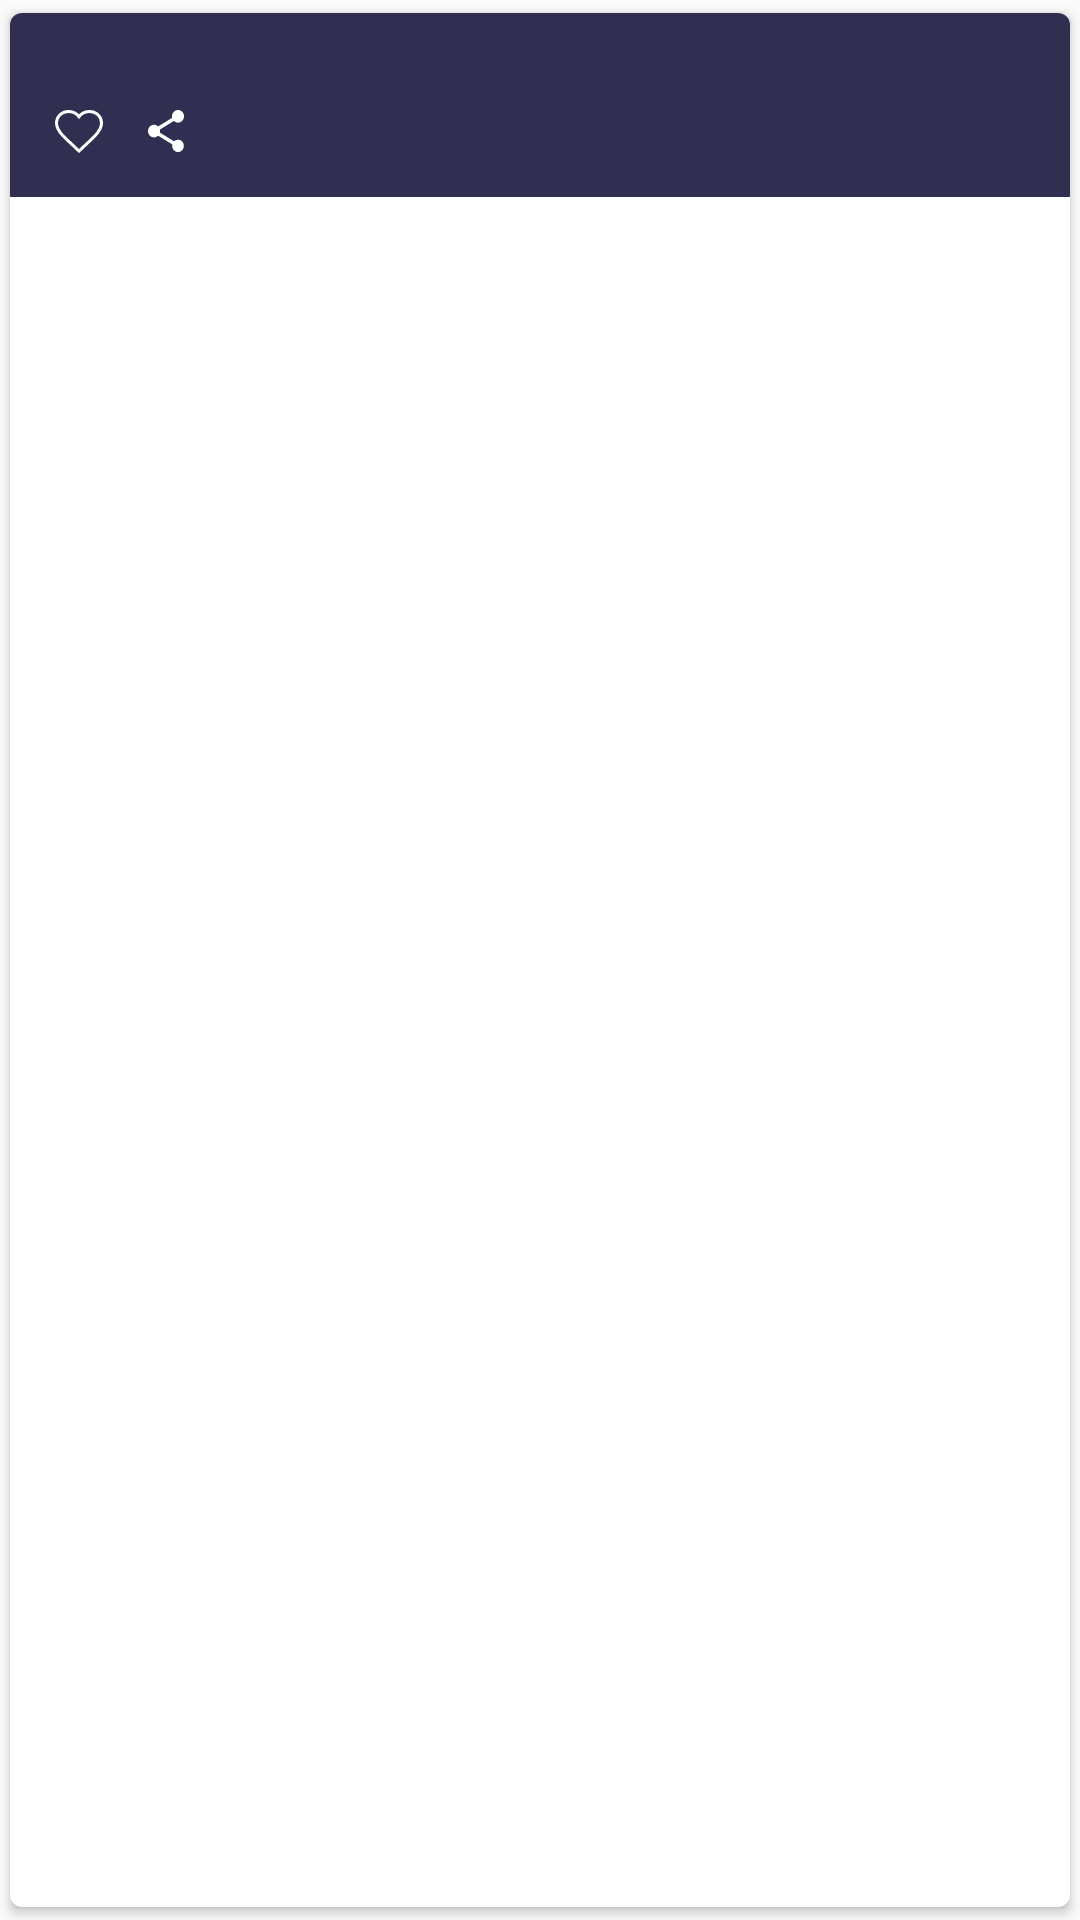

Icon bounding boxes for this 1080px x 1920px phone screenshot, format (x1, y1, x2, y2):
like: (55, 110, 103, 153)
share: (148, 110, 184, 152)
